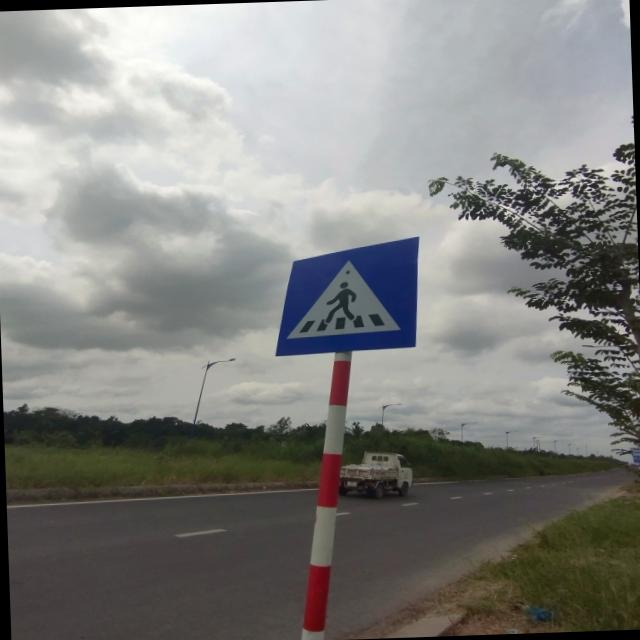Giao_Nhau_Duong_Uu_Tien: (274, 235, 422, 357)
